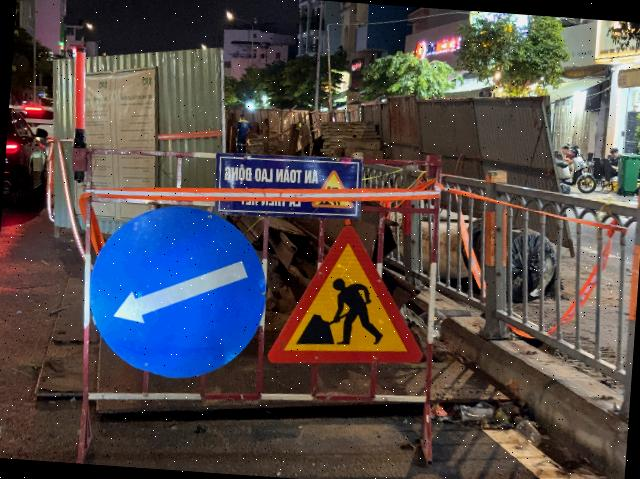cong-truong-dang-thi-cong: (266, 216, 432, 372)
huong-phai-di-vong-chuong-ngai-vat: (84, 197, 272, 386)
